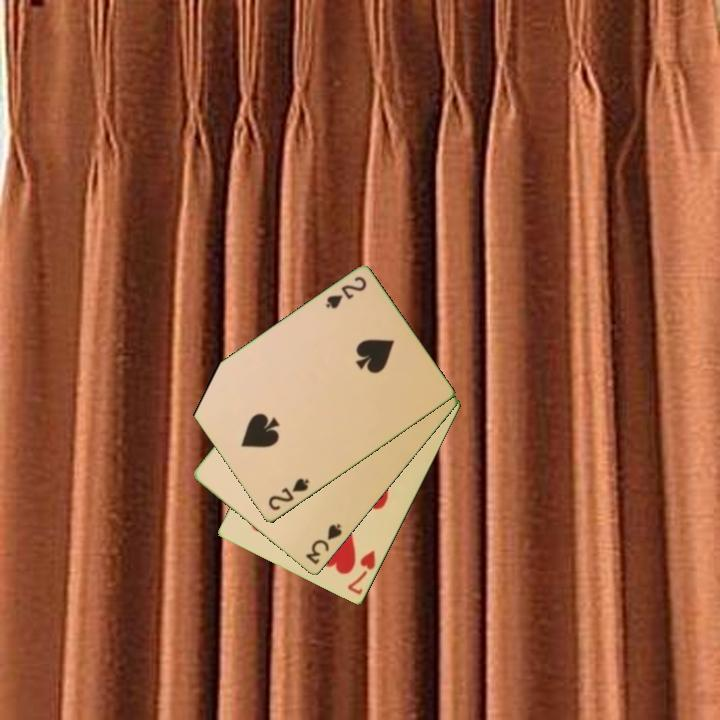2s: (322, 273, 370, 312), (265, 475, 312, 514)
3s: (302, 520, 345, 568)
7h: (344, 547, 379, 598)
